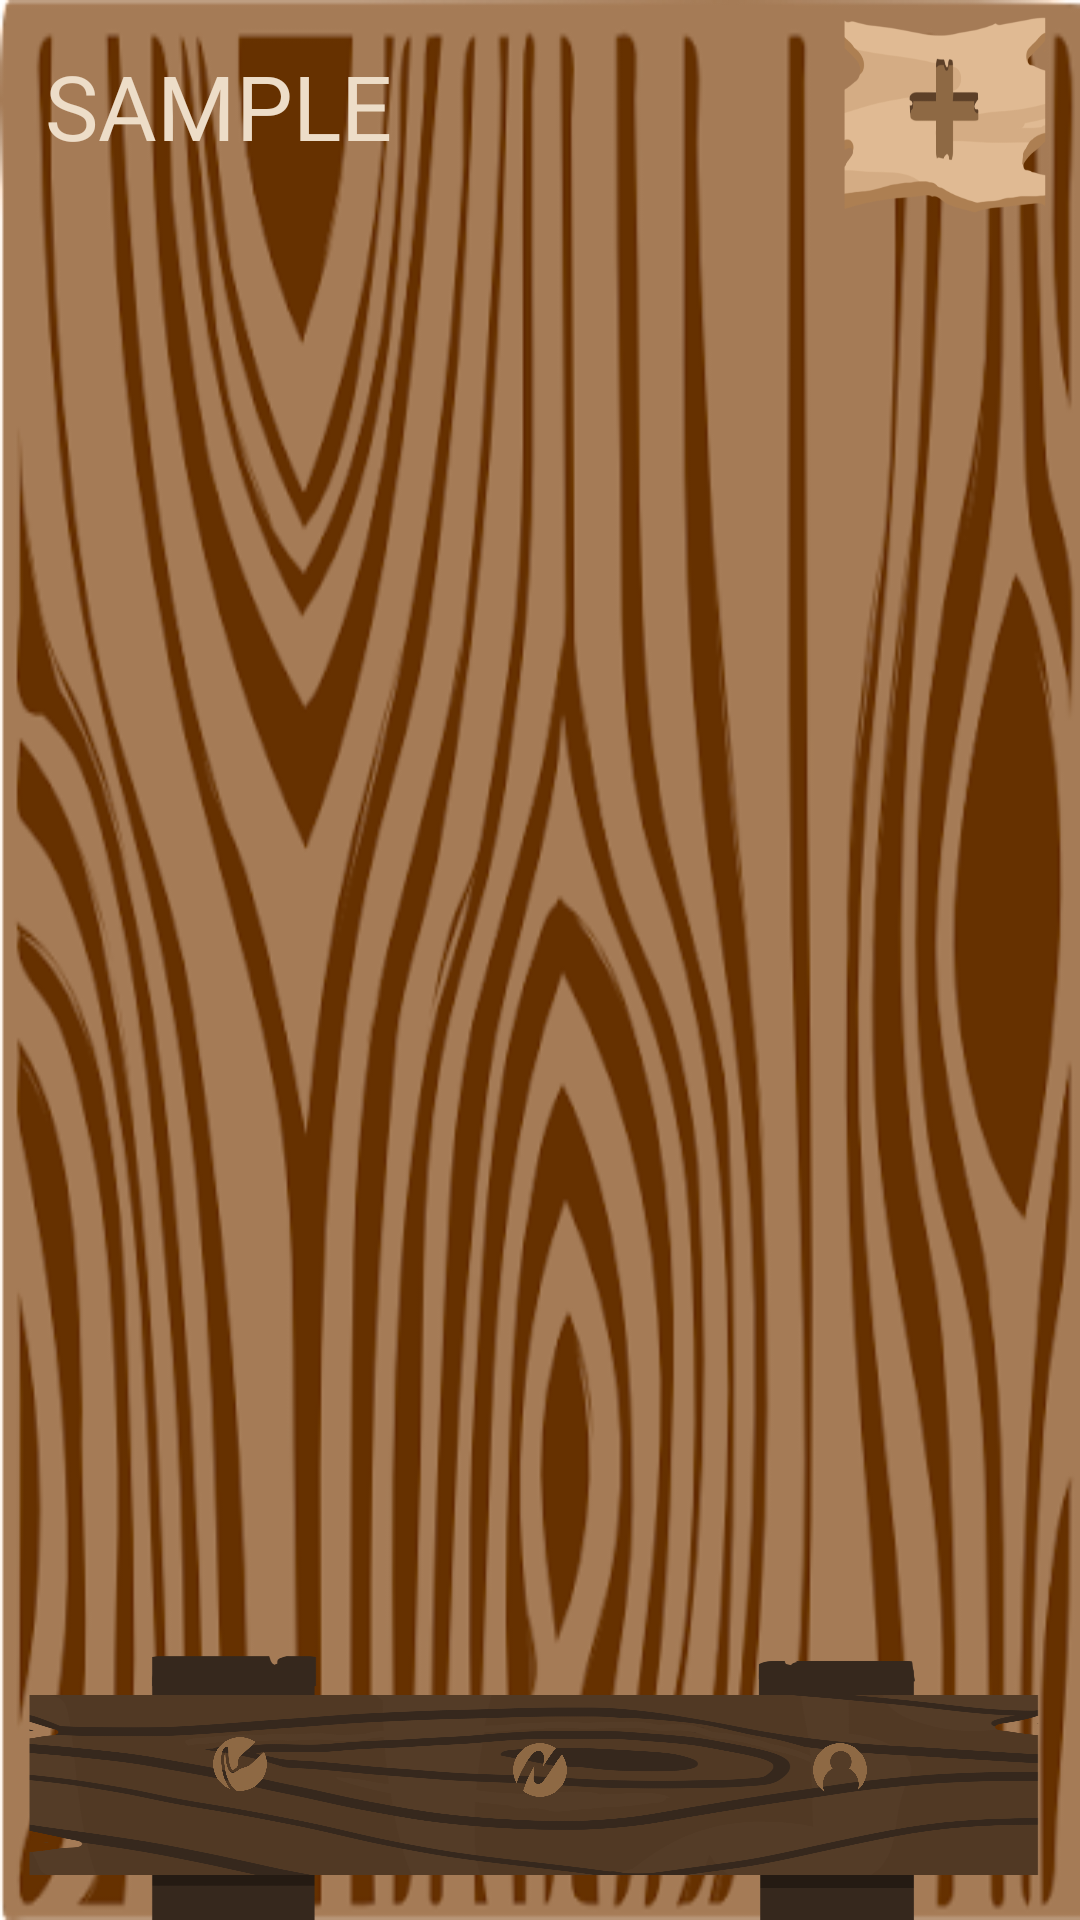

Named icons in this screenshot (1080 × 1920) and their bounding boxes, detection(x1, y1, x2, y2):
tambah: detection(844, 18, 1045, 203)
